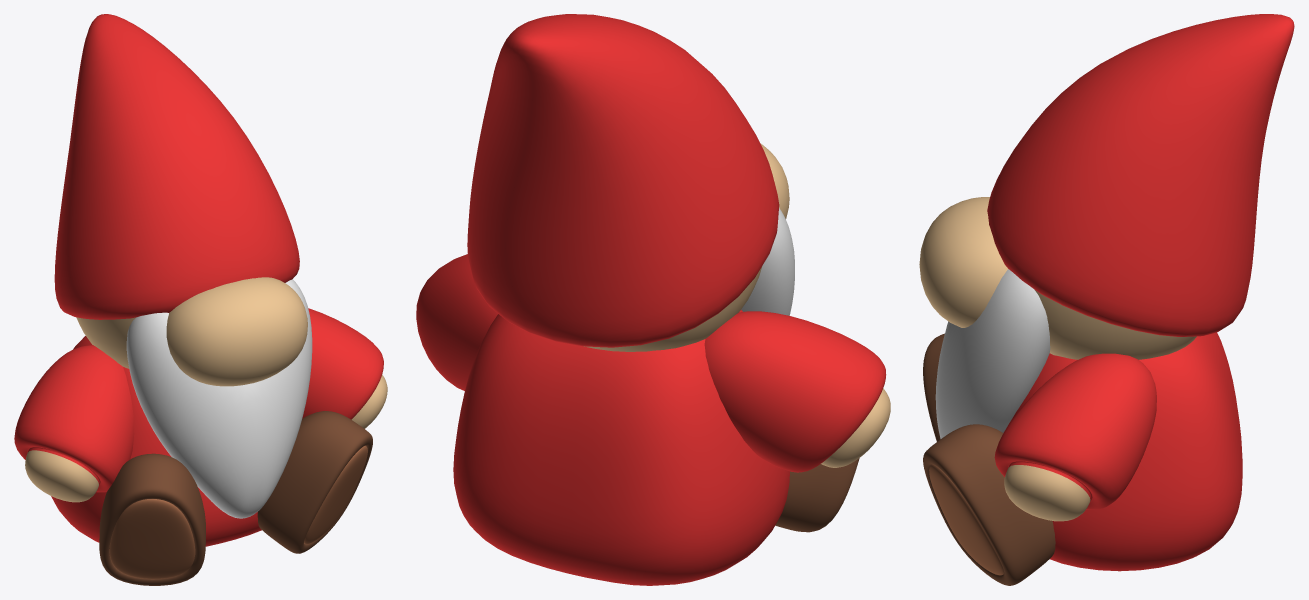
File: GonkPlushie.fbx
The picture shows the model from 3 angles, left to right: view 1: azimuth 30°, elevation 25°; view 2: azimuth 150°, elevation 25°; view 3: azimuth 270°, elevation 25°; orthographic projection. The views are drawn at different scales.
Parts seen in each view (by area): view 1: Cube.001; view 2: Cube.001; view 3: Cube.001.
Boxes of the visible parts, x1,y1,x2,y2 form: Cube.001: (14,14,387,585); Cube.001: (416,14,890,585); Cube.001: (919,14,1294,585).
Size of the model in its own units: 277 by 343 by 225.
